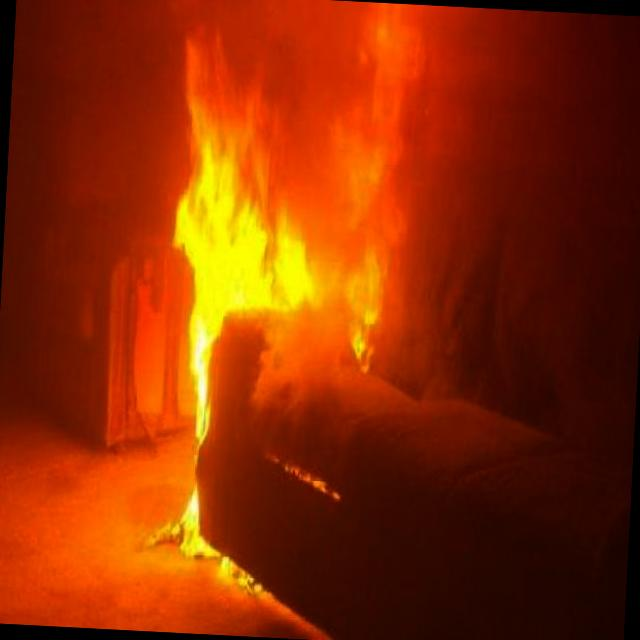Fire_Dangerous: (146, 18, 406, 582)
